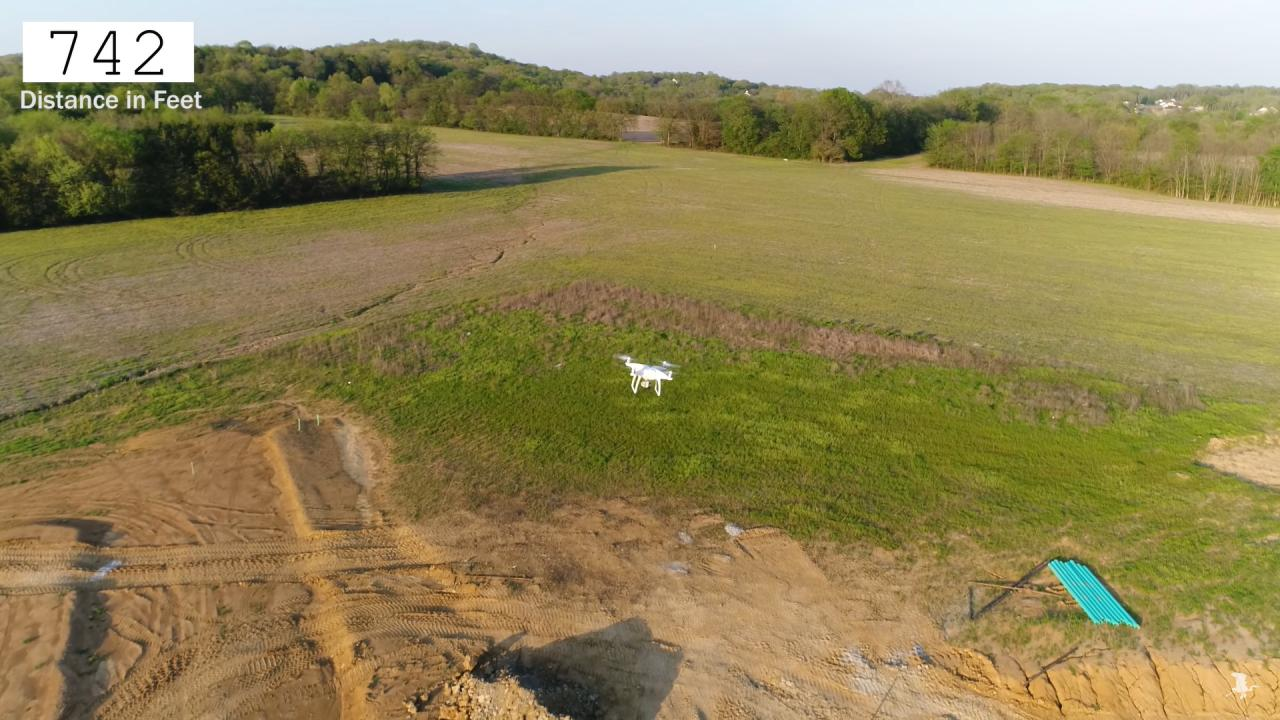Drone: (607, 346, 690, 404)
